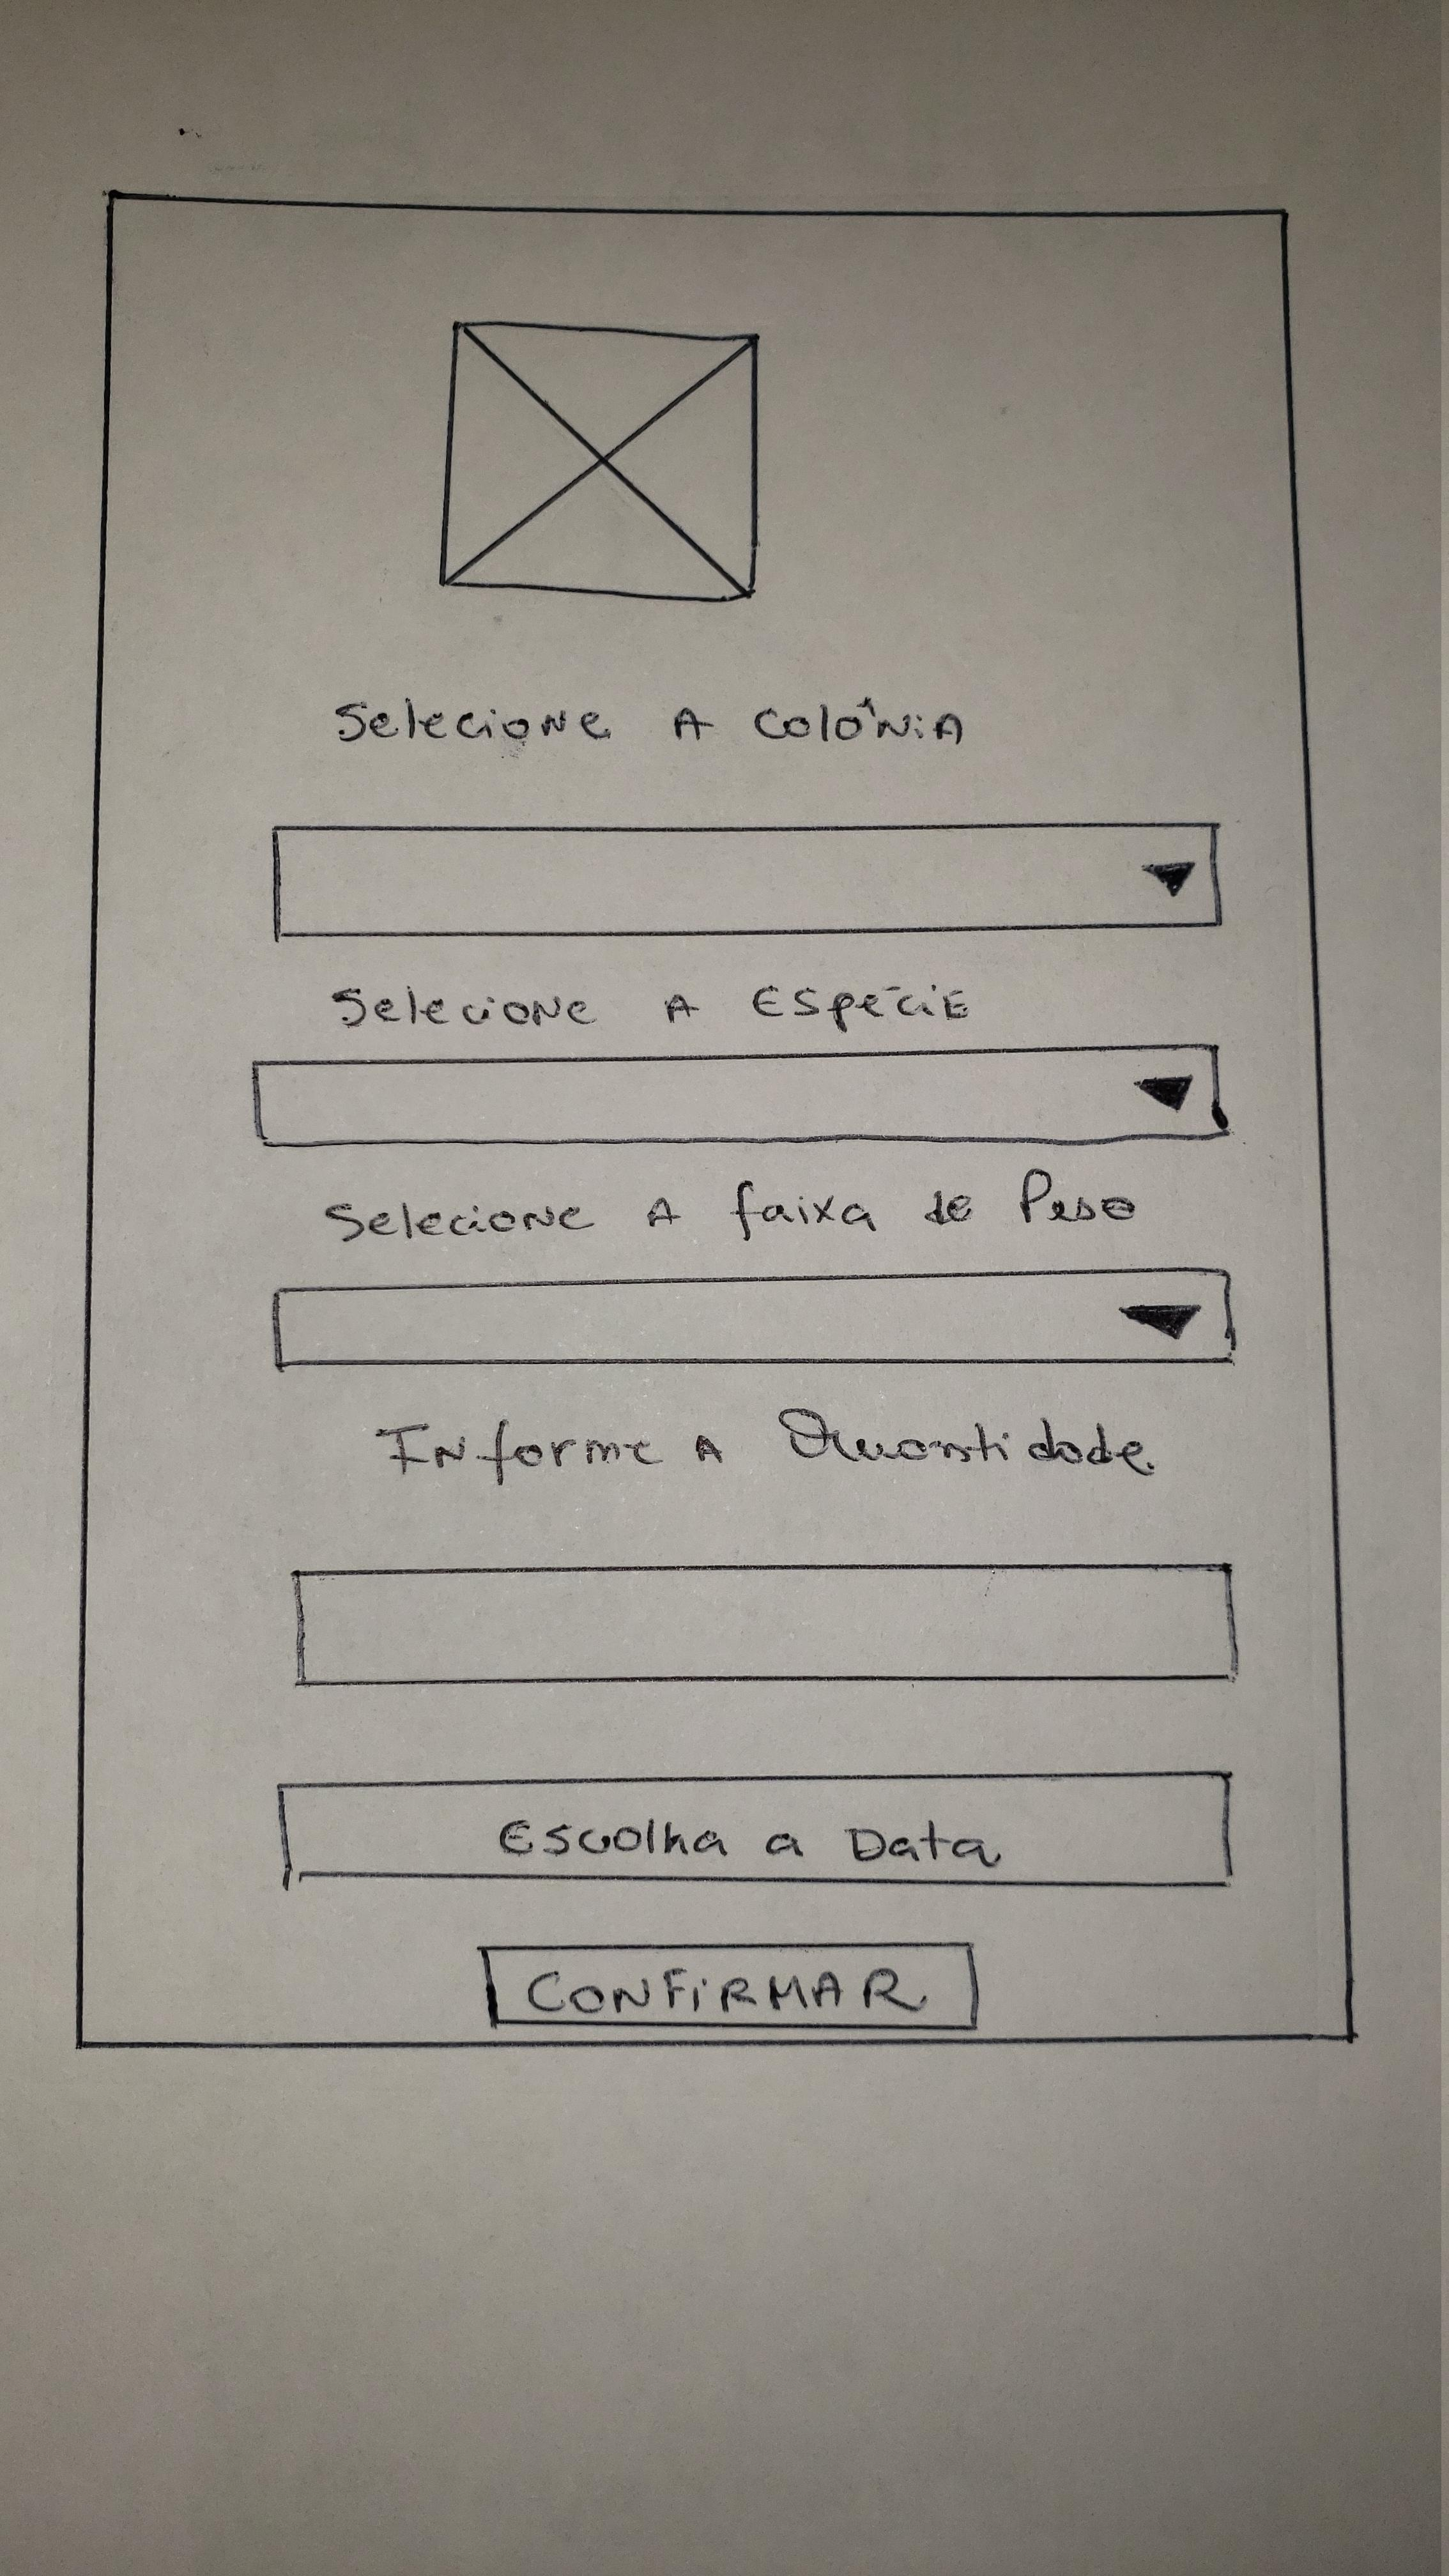Button: (277, 1768, 1233, 1890), (484, 1942, 979, 2033)
Image: (438, 318, 762, 604)
Label: (374, 1404, 1157, 1486), (325, 1169, 1137, 1243), (334, 694, 963, 747), (330, 983, 969, 1033)
ListPicker: (266, 822, 1223, 937), (254, 1041, 1227, 1147), (272, 1266, 1237, 1370)
Screen: (73, 187, 1358, 2045)
TextBox: (295, 1562, 1241, 1684)
